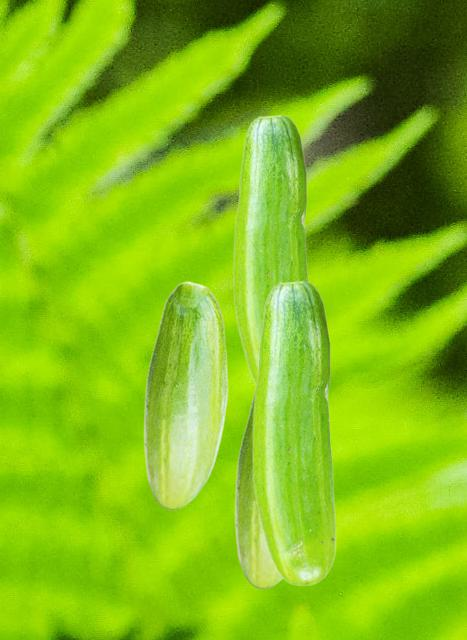cucumber: (252, 280, 335, 585), (233, 114, 308, 383), (143, 281, 227, 509), (234, 387, 282, 588)
